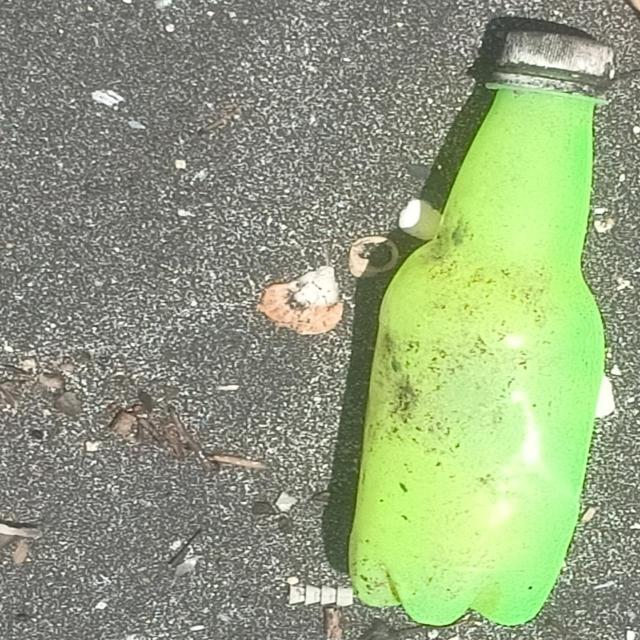plastic_waste: (347, 26, 626, 629)
